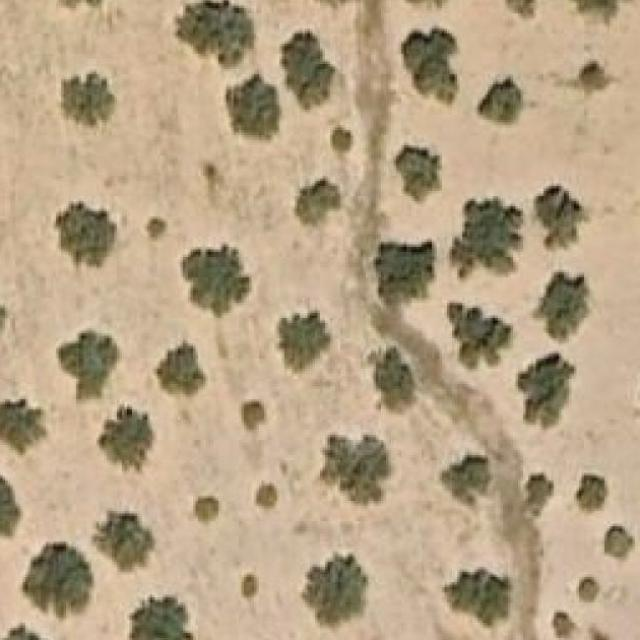Tree: (452, 196, 523, 277), (300, 552, 370, 633), (175, 0, 256, 69), (530, 270, 600, 346), (180, 245, 251, 319), (398, 26, 459, 111), (22, 544, 92, 618), (518, 351, 577, 433), (320, 435, 389, 504), (91, 511, 160, 575), (436, 567, 510, 626), (96, 404, 156, 474), (224, 72, 282, 143), (373, 240, 434, 306), (449, 306, 510, 370), (56, 201, 115, 267), (154, 333, 206, 399), (61, 333, 117, 394), (282, 34, 332, 100), (388, 145, 442, 204), (58, 72, 114, 128), (280, 310, 330, 369), (535, 184, 581, 248), (129, 594, 193, 640), (478, 76, 538, 125), (0, 399, 49, 457), (368, 347, 413, 408), (442, 455, 491, 506), (297, 176, 337, 224), (566, 475, 609, 516), (0, 468, 21, 544), (601, 524, 635, 568), (571, 56, 609, 94), (525, 473, 554, 514), (552, 609, 583, 640), (393, 0, 462, 13), (0, 625, 56, 640), (53, 0, 109, 13), (330, 128, 351, 162), (253, 484, 276, 514), (576, 575, 596, 605), (195, 496, 218, 521), (236, 575, 259, 600), (574, 0, 625, 11), (244, 402, 264, 428), (147, 216, 166, 240), (590, 622, 610, 640), (498, 0, 536, 8)
